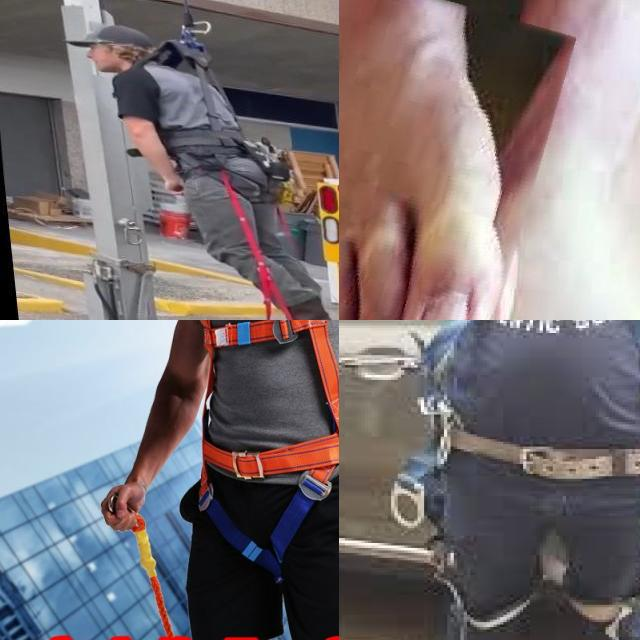Barefoots: (408, 30, 640, 320), (339, 0, 510, 320)
Harness: (419, 320, 640, 622), (192, 320, 339, 573), (149, 0, 227, 98)
